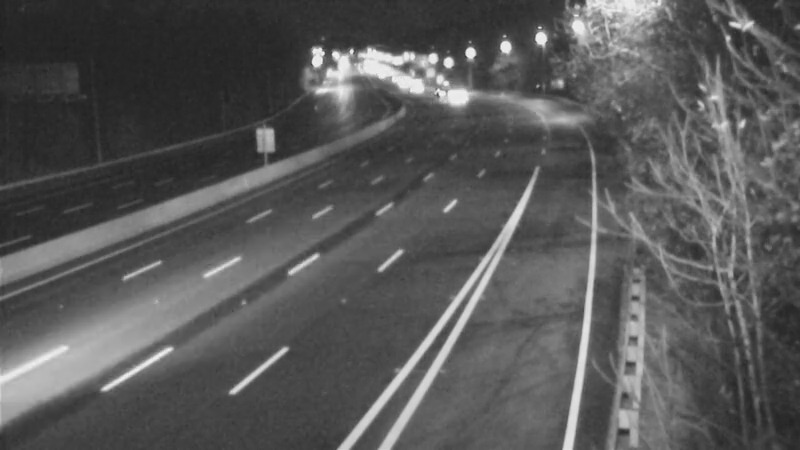vehicle: (419, 59, 469, 109), (390, 60, 440, 110), (429, 71, 479, 121)
